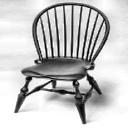chair_success: (10, 0, 114, 126)
